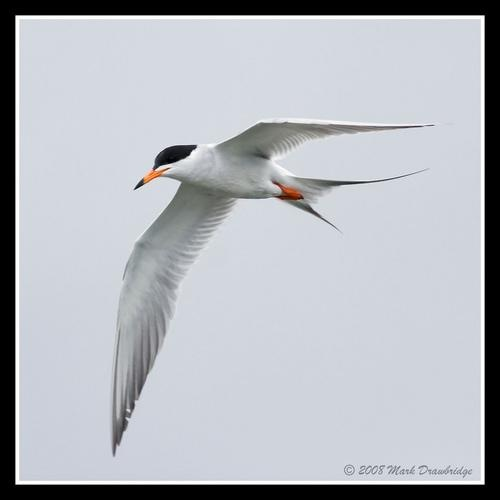bird: (102, 119, 441, 458)
